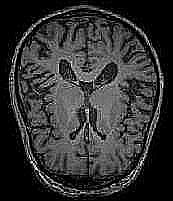Normal_Brain: (2, 3, 173, 201)
